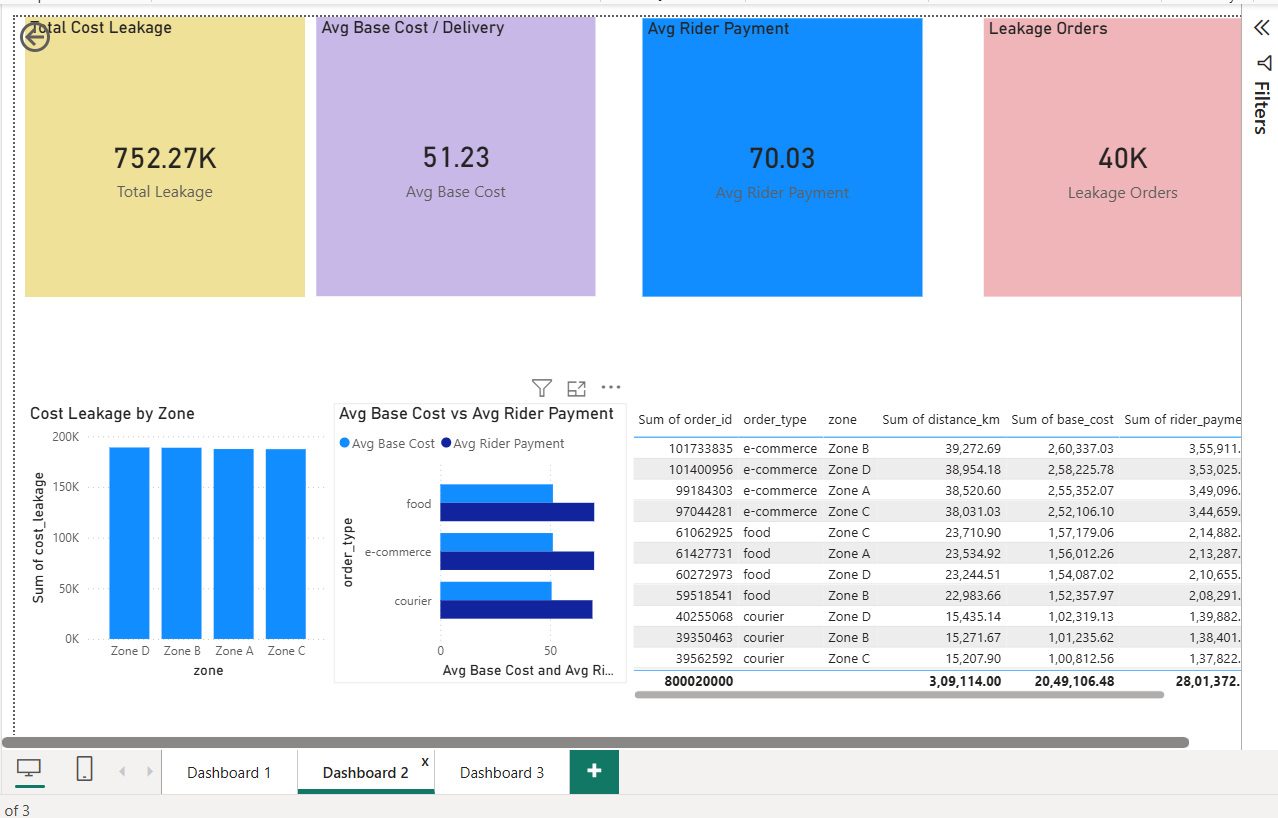

The page's visual inventory and layout, read from the dashboard file:
{"tool":"powerbi","page":{"name":"Dashboard 2","canvas":[1280,720],"ordinal":1},"visuals":[{"type":"card","title":"Total Cost Leakage","fields":{"Values":["cleaned_deliveries.Total Leakage"]},"box":[10,0,280,280],"z":0},{"type":"card","title":"Avg Base Cost / Delivery","fields":{"Values":["cleaned_deliveries.Avg Base Cost"]},"box":[300.9,0,279.4,279.4],"z":1000},{"type":"card","title":"Avg Rider Payment","fields":{"Values":["cleaned_deliveries.Avg Rider Payment"]},"box":[627.1,1.4,279.9,278.6],"z":2000},{"type":"card","title":"Leakage Orders","fields":{"Values":["cleaned_deliveries.Leakage Orders"]},"box":[968.8,1.4,278.6,278.6],"z":3000},{"type":"clusteredColumnChart","title":"Cost Leakage by Zone","fields":{"Category":["cleaned_deliveries.zone"],"Y":["Sum(cleaned_deliveries.cost_leakage)"]},"box":[10.1,386.4,308.5,279.7],"z":3001},{"type":"clusteredBarChart","title":"Avg Base Cost vs Avg Rider Payment","fields":{"Category":["cleaned_deliveries.order_type"],"Y":["cleaned_deliveries.Avg Base Cost","cleaned_deliveries.Avg Rider Payment"]},"box":[318.6,386.4,294.1,279.7],"z":3002},{"type":"tableEx","fields":{"Values":["Sum(cleaned_deliveries.order_id)","cleaned_deliveries.order_type","cleaned_deliveries.zone","Sum(cleaned_deliveries.distance_km)","Sum(cleaned_deliveries.base_cost)","Sum(cleaned_deliveries.rider_payment)","Sum(cleaned_deliveries.cost_leakage)"]},"box":[612.8,386.4,654.6,301.3],"z":3003},{"type":"actionButton","box":[0,0,100,40],"z":3004}]}

Visuals, with their boxes on the page's 1280x720 design canvas (x1, y1, x2, y2). These are canvas units, not pixel positions in the 1278x818 screenshot, which may show the page scaled, cropped or inside an application window:
"Total Cost Leakage" card: l=10, t=0, r=290, b=280
"Avg Base Cost / Delivery" card: l=301, t=0, r=580, b=279
"Avg Rider Payment" card: l=627, t=1, r=907, b=280
"Leakage Orders" card: l=969, t=1, r=1247, b=280
"Cost Leakage by Zone" clusteredColumnChart: l=10, t=386, r=319, b=666
"Avg Base Cost vs Avg Rider Payment" clusteredBarChart: l=319, t=386, r=613, b=666
tableEx - Sum(cleaned_deliveries.order_id) x cleaned_deliveries.order_type: l=613, t=386, r=1267, b=688
actionButton: l=0, t=0, r=100, b=40
